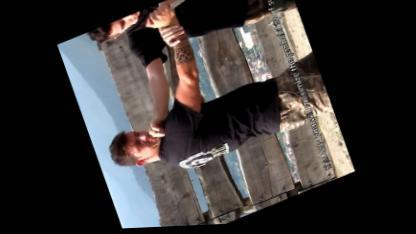knife: (139, 0, 207, 33)
